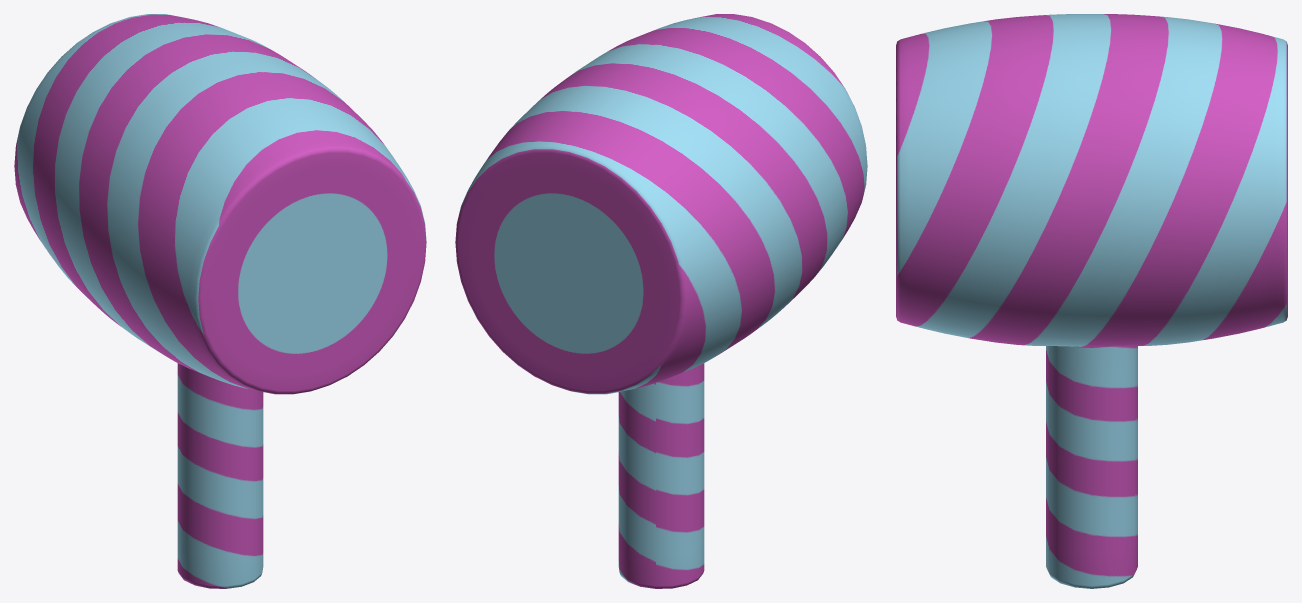
The model's file is hammer.fbx.
3 views of the same model, side by side, from view 1: azimuth 30°, elevation 25°; view 2: azimuth 150°, elevation 25°; view 3: azimuth 270°, elevation 25° (orthographic). The views are drawn at different scales.
Visible parts, largest first — view 1: pCylinder1; view 2: pCylinder1; view 3: pCylinder1.
Part boxes in pixels (box(x1,y1,x2,y2)): pCylinder1: box(14, 14, 426, 588); pCylinder1: box(455, 14, 867, 588); pCylinder1: box(896, 14, 1287, 588).
Bounding box in the file's own units: 3.32 × 5.94 × 3.89.
Materials: 1 (1 with a texture image).
